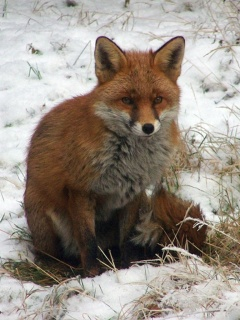Fox: (23, 35, 206, 278)
